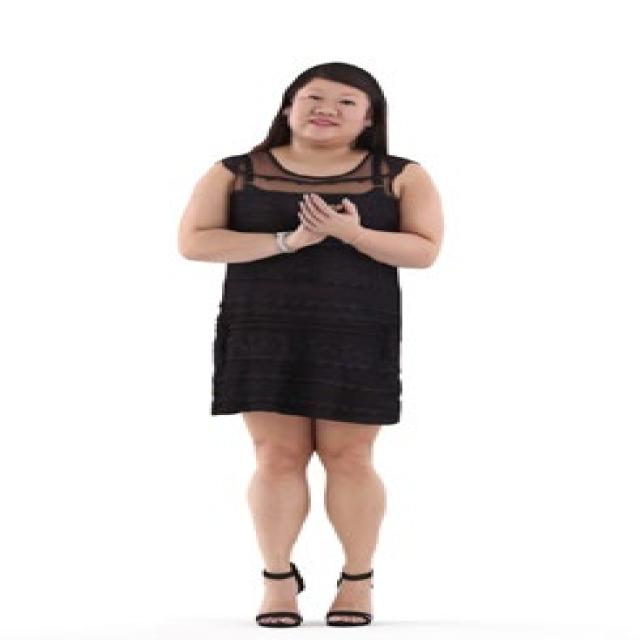standing: (175, 60, 451, 633)
